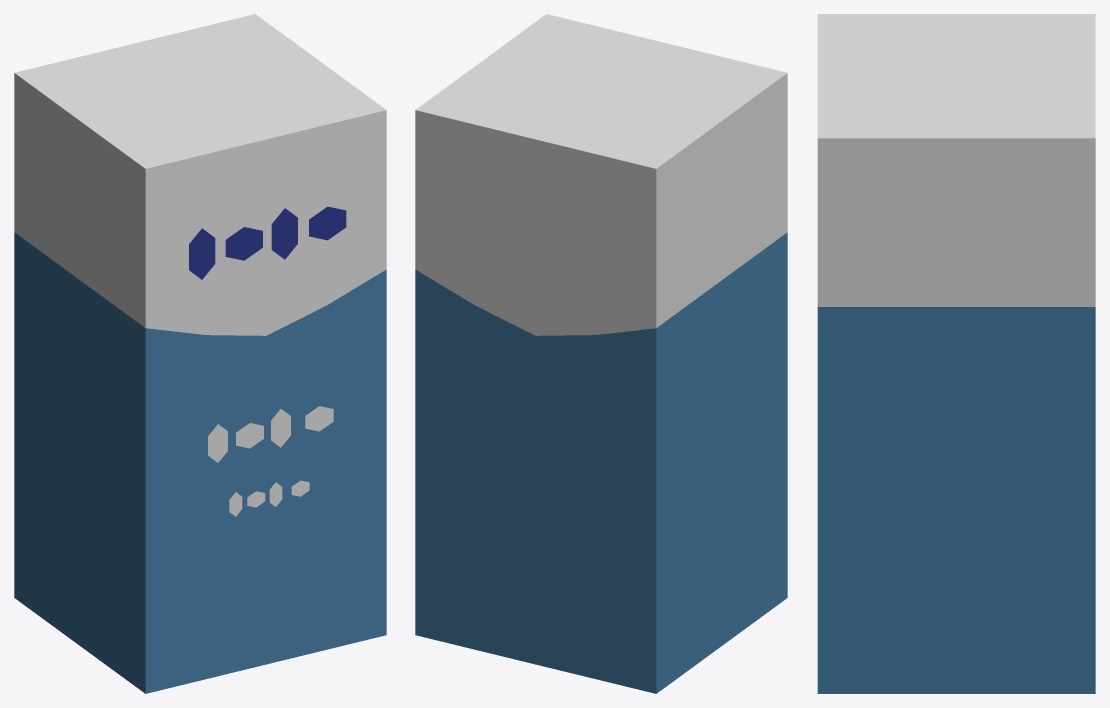
File: H_Medicine_1.fbx
3 views of the same model, side by side, from view 1: azimuth 30°, elevation 25°; view 2: azimuth 150°, elevation 25°; view 3: azimuth 270°, elevation 25° (orthographic). The views are drawn at different scales.
Visible parts, largest first — view 1: H_Medicine_1; view 2: H_Medicine_1; view 3: H_Medicine_1.
Boxes of the visible parts, x1=… form: H_Medicine_1: x1=14, y1=14, x2=386, y2=693; H_Medicine_1: x1=415, y1=14, x2=787, y2=693; H_Medicine_1: x1=817, y1=14, x2=1095, y2=693.
Bounding box in the file's own units: 41.16 × 38.99 × 85.65.
